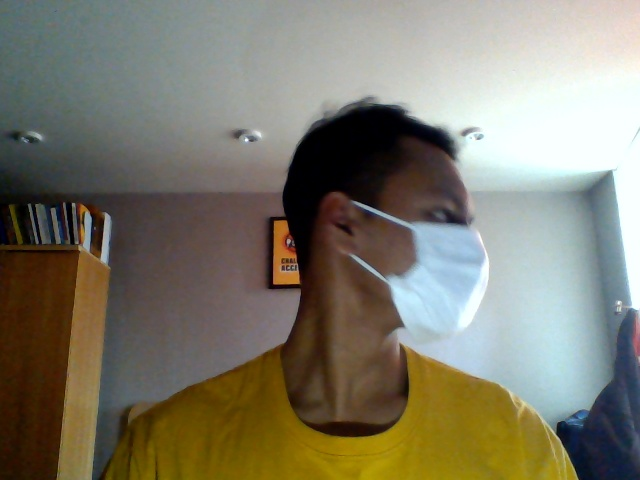mask: (391, 224, 488, 344)
